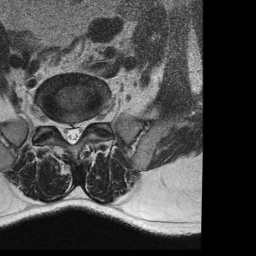CCS_normal: (68, 114, 76, 148)
LFS_stenosis: (85, 111, 94, 130)
LLS_normal: (76, 116, 85, 139)
RFS_stenosis: (50, 114, 60, 134)
RLS_normal: (60, 117, 68, 142)
